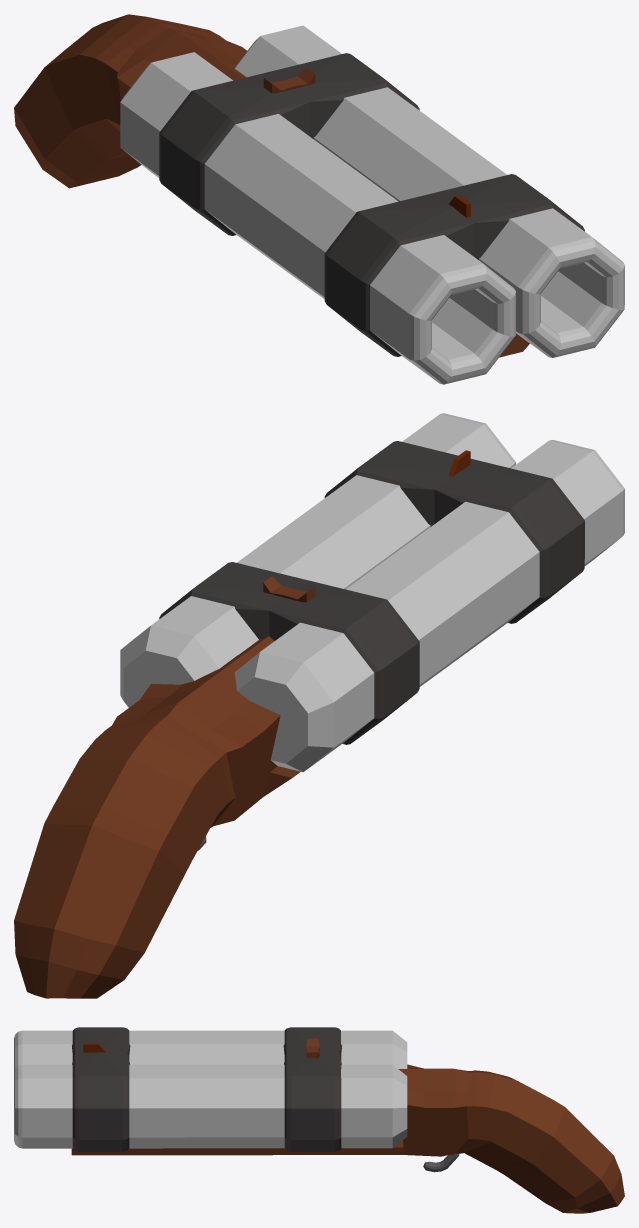
Rendered from m_doublebarrel.fbx.
The picture shows the model from 3 angles, top to bottom: view 1: azimuth 30°, elevation 25°; view 2: azimuth 150°, elevation 25°; view 3: azimuth 270°, elevation 25°; orthographic projection. The views are drawn at different scales.
Visible parts, largest first — view 1: Cube; view 2: Cube; view 3: Cube.
Boxes of the visible parts, x1=… form: Cube: x1=14, y1=14, x2=624, y2=384; Cube: x1=14, y1=413, x2=624, y2=998; Cube: x1=14, y1=1027, x2=624, y2=1213.
Size of the model in its own units: 252 by 280 by 938.
